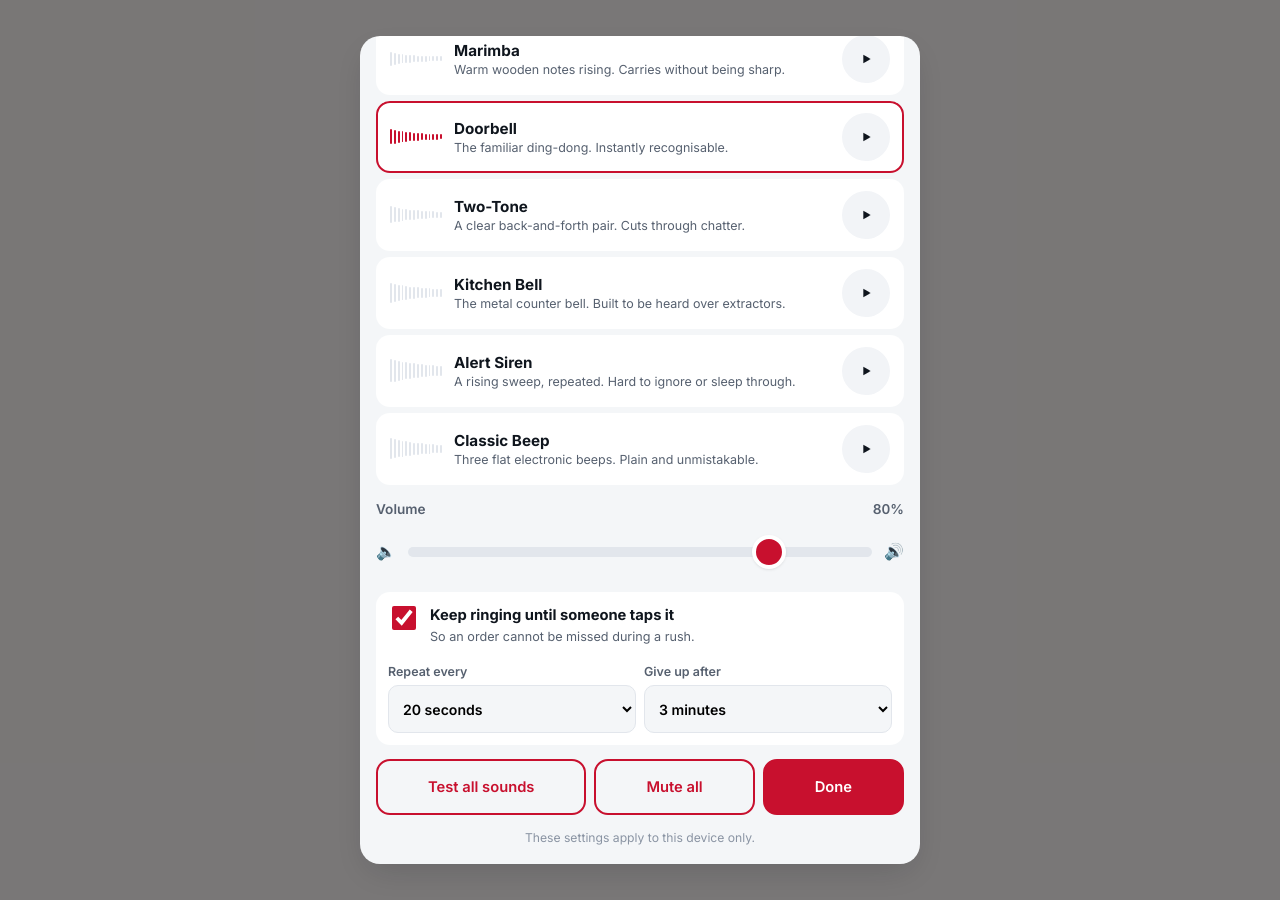
repeat until acknowledged › turning it off hides the interval controls
(page scrolled)
Step 1. Click the checkbox labelled "Keep ringing" → [404, 618], box [392,606,416,630]
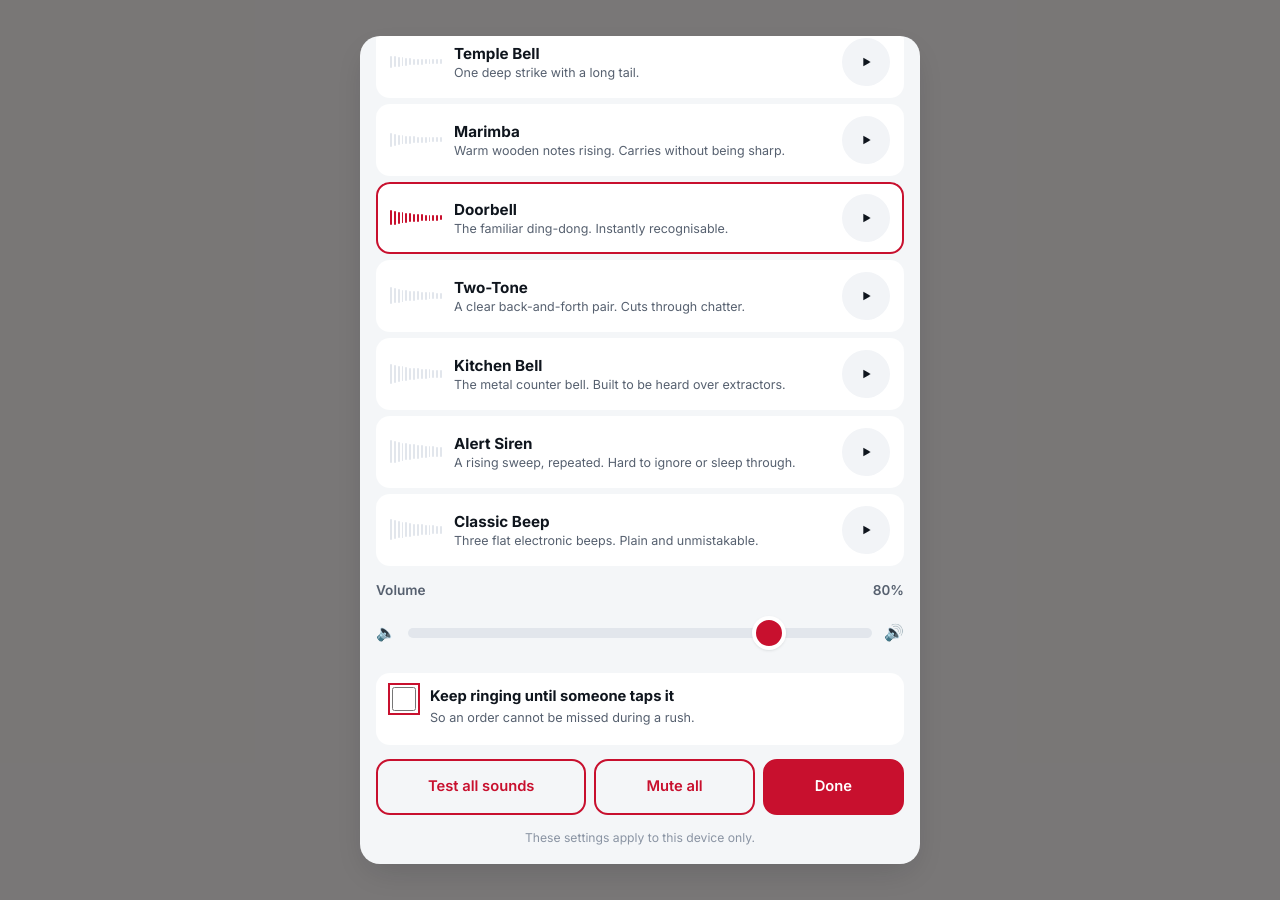
Result: the label labelled "Repeat every" is gone
